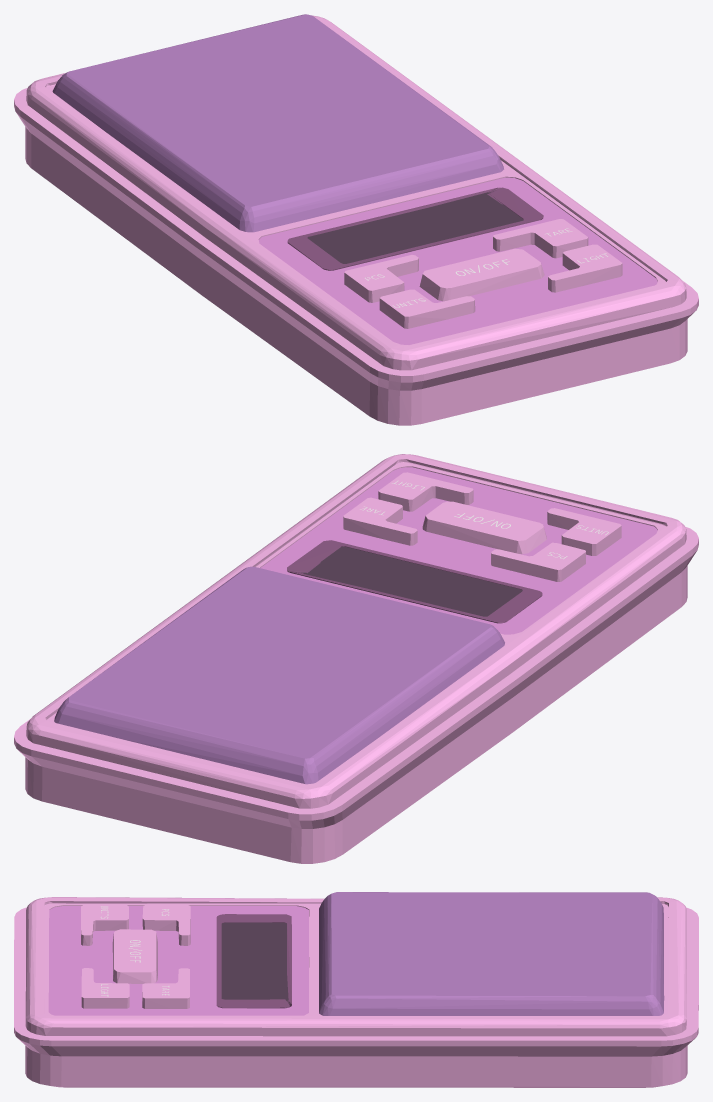
The model's file is tana.glb.
3 renders of one model, top to bottom at view 1: azimuth 30°, elevation 25°; view 2: azimuth 150°, elevation 25°; view 3: azimuth 270°, elevation 25°, orthographic. The views are drawn at different scales.
Parts seen in each view (by area): view 1: Text; view 2: Text; view 3: Text.
Boxes of the visible parts, <box> form: Text: <box>14,14,698,425</box>; Text: <box>14,454,698,863</box>; Text: <box>14,892,698,1087</box>.
Size of the model in its own units: 0.0988 by 0.0299 by 0.2085.
